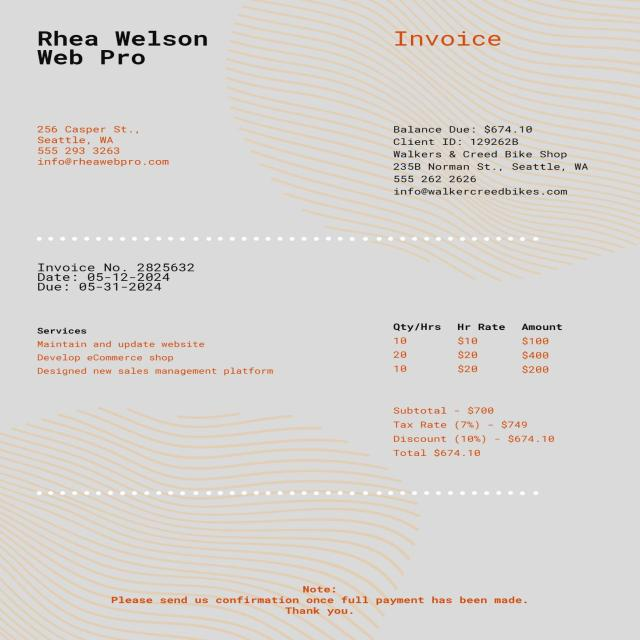paragraph: (98, 574, 544, 628), (378, 113, 598, 207), (379, 399, 562, 468), (20, 19, 224, 71), (25, 252, 205, 304), (23, 114, 175, 173), (382, 15, 509, 56)
table: (26, 321, 570, 380)
